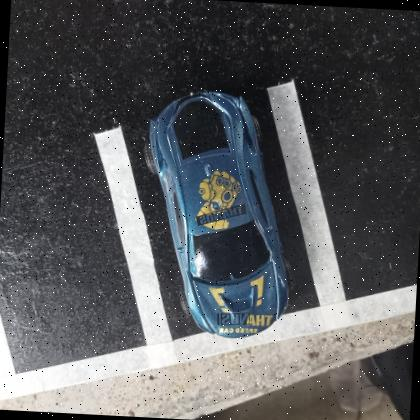Car: (148, 87, 290, 338)
